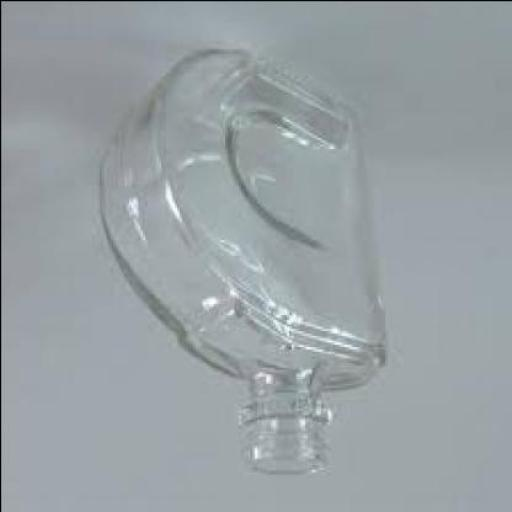glass: (96, 50, 384, 476)
